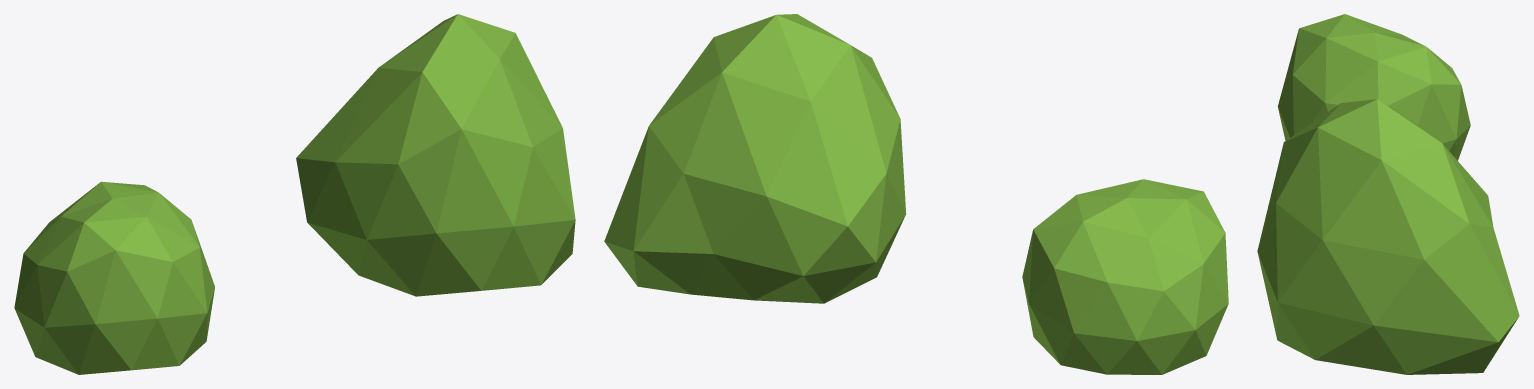
File: bush.fbx
3 views of the same model, side by side, from view 1: azimuth 30°, elevation 25°; view 2: azimuth 150°, elevation 25°; view 3: azimuth 270°, elevation 25° (orthographic). The views are drawn at different scales.
Visible parts, largest first — view 1: Bush1, Bush2; view 2: Bush1, Bush2; view 3: Bush1, Bush2.
Boxes of the visible parts, left/top/right/bottom form: Bush1: left=296, top=14, right=575, bottom=296; Bush2: left=14, top=181, right=214, bottom=374; Bush1: left=604, top=14, right=906, bottom=303; Bush2: left=1022, top=179, right=1228, bottom=374; Bush1: left=1257, top=99, right=1519, bottom=374; Bush2: left=1277, top=14, right=1470, bottom=160.
Bounding box in the file's own units: 5.72 × 2.55 × 2.55.
